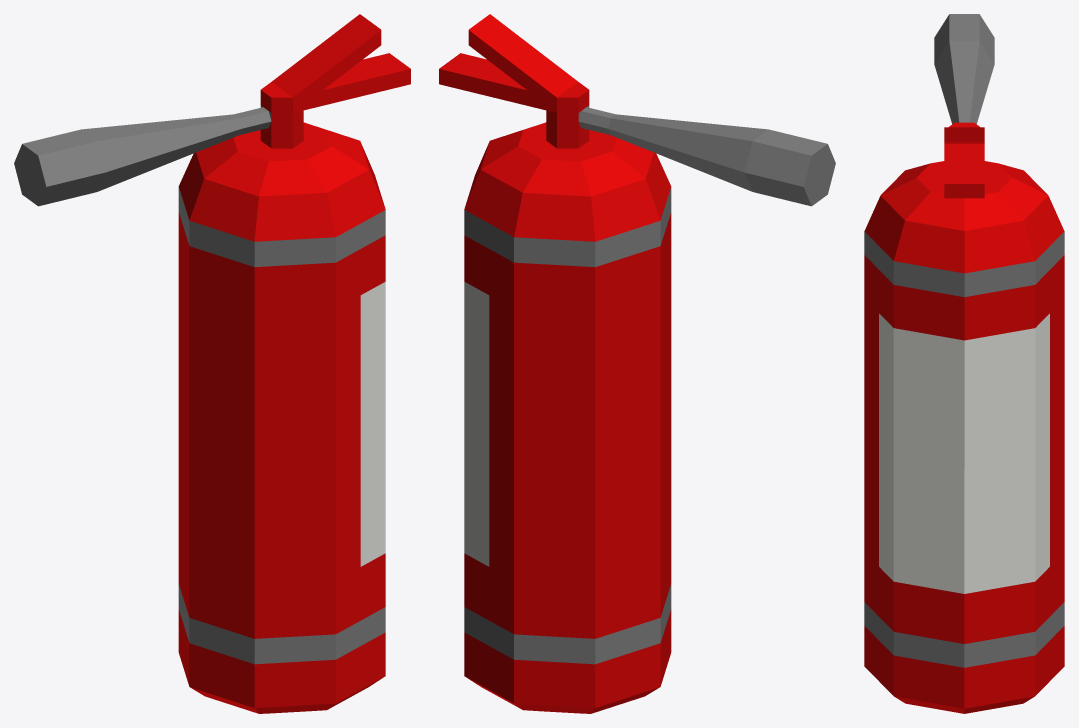
File: FireExtinguisher.fbx
3 views of the same model, side by side, from view 1: azimuth 30°, elevation 25°; view 2: azimuth 150°, elevation 25°; view 3: azimuth 270°, elevation 25° (orthographic). The views are drawn at different scales.
Visible parts, largest first — view 1: Fire Extinguisher; view 2: Fire Extinguisher; view 3: Fire Extinguisher.
Boxes of the visible parts, x1,y1,x2,y2 form: Fire Extinguisher: (14, 14, 410, 713); Fire Extinguisher: (439, 14, 835, 713); Fire Extinguisher: (864, 14, 1064, 713).
Bounding box in the file's own units: 0.1255 × 0.2097 × 0.063.
